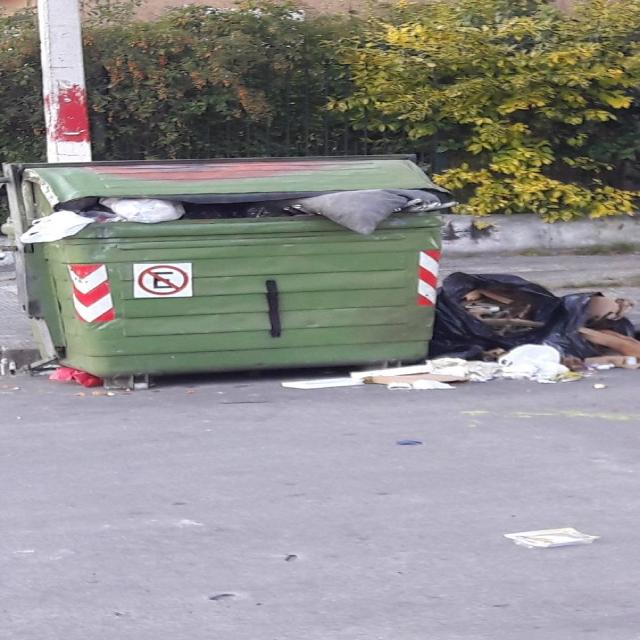garbage: (431, 271, 640, 385), (12, 195, 188, 245), (266, 190, 468, 233), (277, 362, 489, 402), (495, 518, 617, 557), (39, 363, 149, 395)
